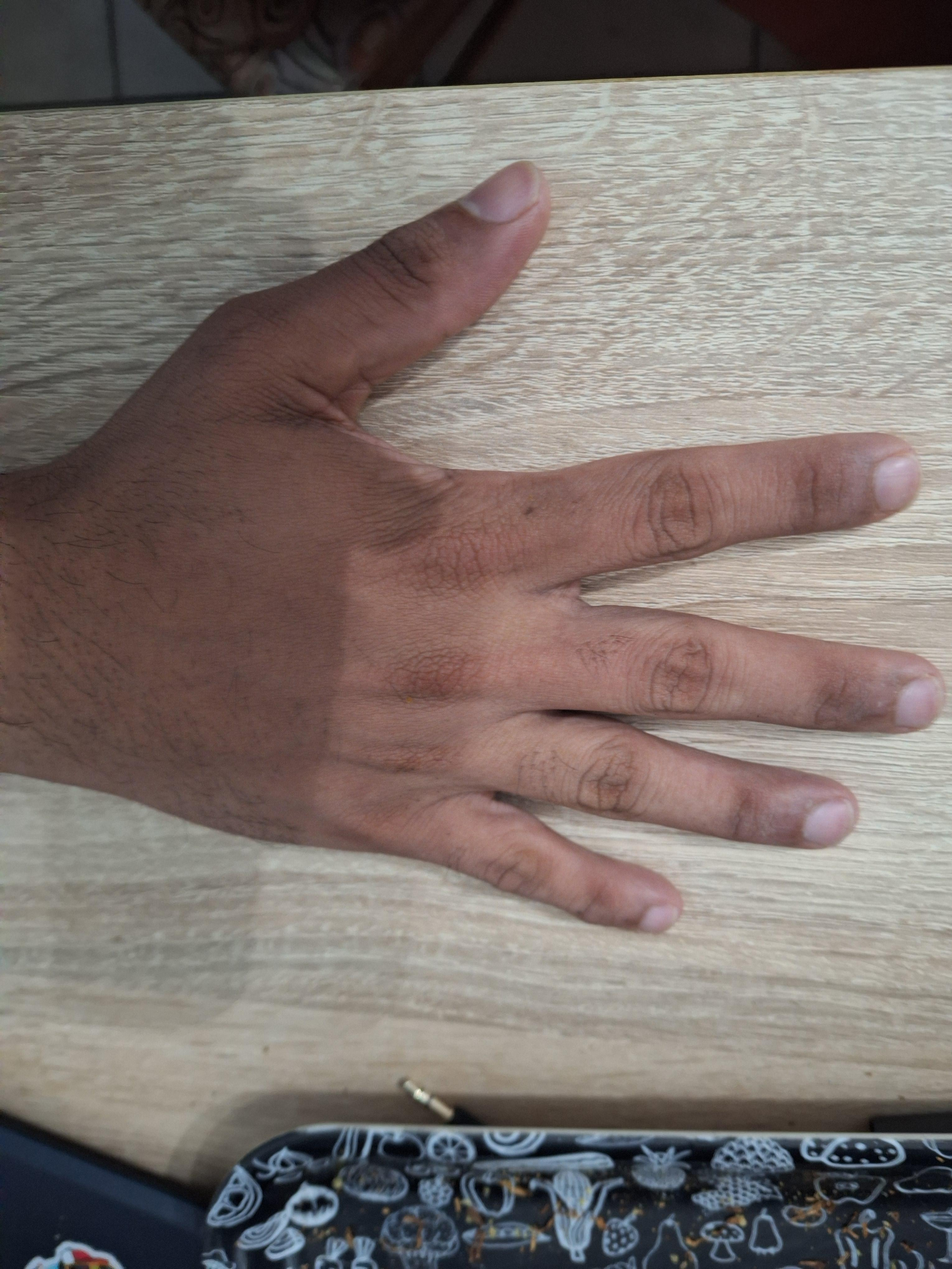Fingernail: (458, 161, 539, 224), (874, 454, 921, 514), (801, 798, 854, 847), (895, 674, 943, 728), (638, 905, 680, 934)
